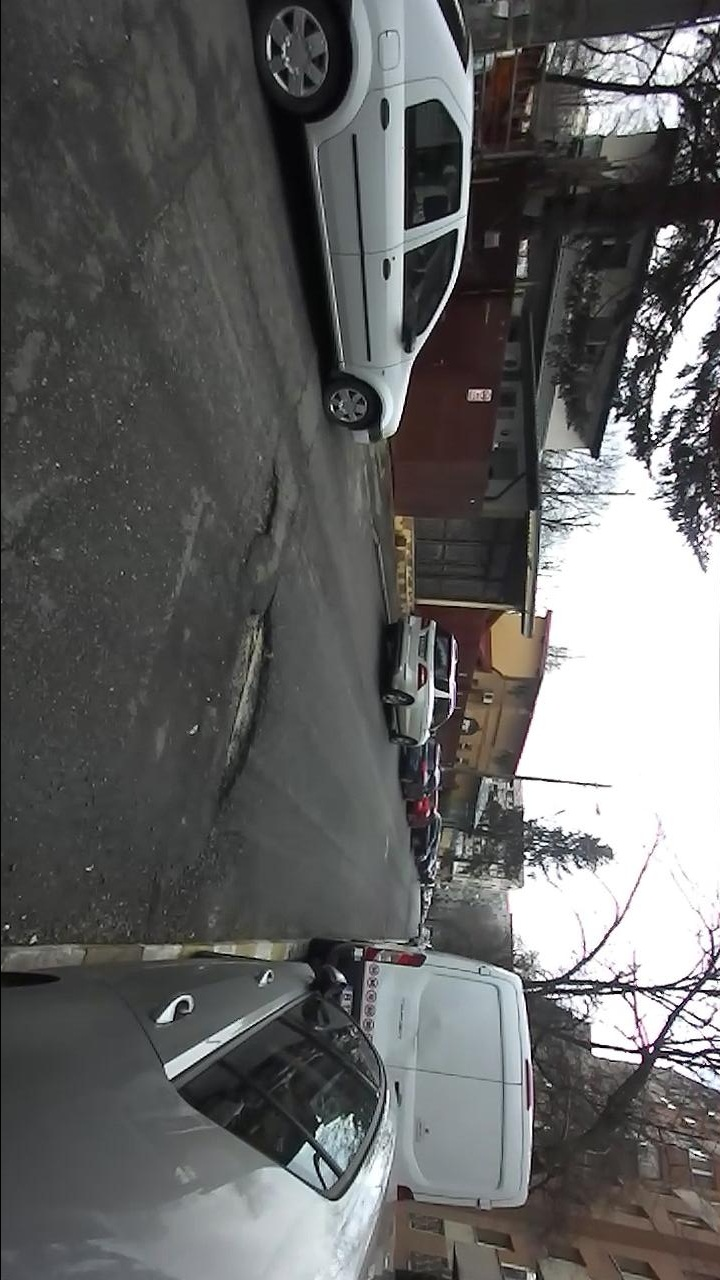pothole: (211, 583, 282, 823), (241, 454, 283, 566)
